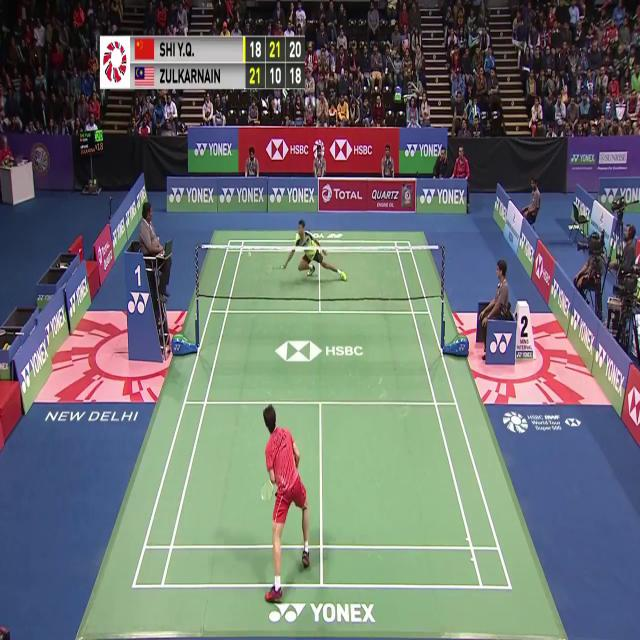Shuttlecock: (246, 249, 253, 261)
